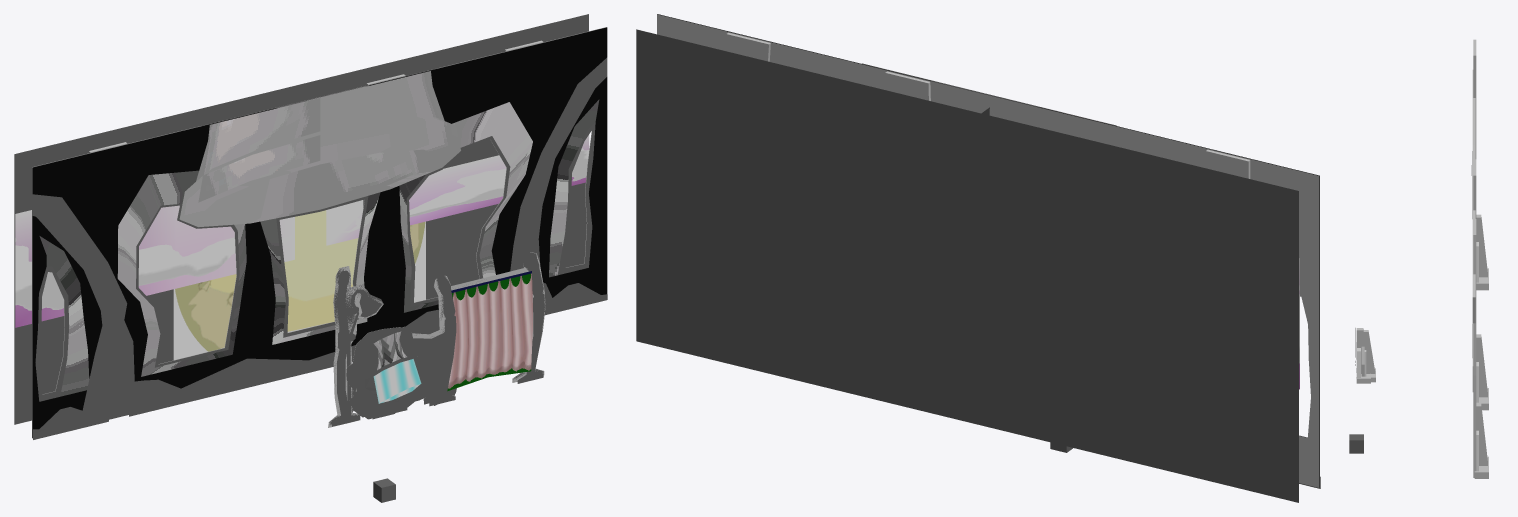
Rendered from stg_04_4_bake_split.dae.
3 views of the same model, side by side, from view 1: azimuth 30°, elevation 25°; view 2: azimuth 150°, elevation 25°; view 3: azimuth 270°, elevation 25° (orthographic). The views are drawn at different scales.
Visible parts, largest first — view 1: polySurface1315_q00095_part1, polySurface1316_q00096, pCube5_q00120, polySurface1315_q00095_part0, pPlane2_q00121, polySurface1307_q00090, polySurface28_q00028_part1, polySurface1317_q00118, polySurface1308_q00092, pPlane4_q00123_VC, pPlane4_q00123, polySurface1312_q00091 (+18 smaller); view 2: pCube5_q00120, polySurface1317_q00117, polySurface1317_q00118, polySurface1254_q00106, polySurface1255_q00107, polySurface1253_q00105; view 3: polySurface1253_q00105, polySurface1250_q00104, pCube24_q00113, pCube24_q00116, pCube24_q00110, polySurface1255_q00107, pCube25, pCube24_q00034, pCube24_q00008, polySurface1254_q00106.
Part boxes in pixels (x1,y1,x2,y2): polySurface1315_q00095_part1: (32,27,607,438); polySurface1316_q00096: (179,71,460,227); pCube5_q00120: (14,14,588,424); polySurface1315_q00095_part0: (39,85,599,396); pPlane2_q00121: (175,210,425,351); polySurface1307_q00090: (32,194,134,419); polySurface28_q00028_part1: (448,273,532,388); polySurface1317_q00118: (32,27,606,401); polySurface1308_q00092: (129,270,515,416); pPlane4_q00123_VC: (15,205,294,327); pPlane4_q00123: (15,234,292,310); polySurface1312_q00091: (510,57,607,271); pCube5_q00120: (636,29,1298,502); polySurface1317_q00117: (657,14,1319,487); polySurface1317_q00118: (657,14,1319,487); polySurface1254_q00106: (885,71,930,100); polySurface1255_q00107: (1206,149,1250,178); polySurface1253_q00105: (725,32,770,61); polySurface1253_q00105: (1473,219,1476,477); polySurface1250_q00104: (1472,70,1475,323); pCube24_q00113: (1476,334,1487,397); pCube24_q00116: (1476,214,1487,277); pCube24_q00110: (1476,403,1487,465); polySurface1255_q00107: (1473,39,1476,158); pCube25: (1349,434,1363,453); pCube24_q00034: (1356,328,1370,373); pCube24_q00008: (1363,330,1375,373); polySurface1254_q00106: (1473,159,1476,218).
Size of the model in its own units: 40 by 23.5 by 10.5.
